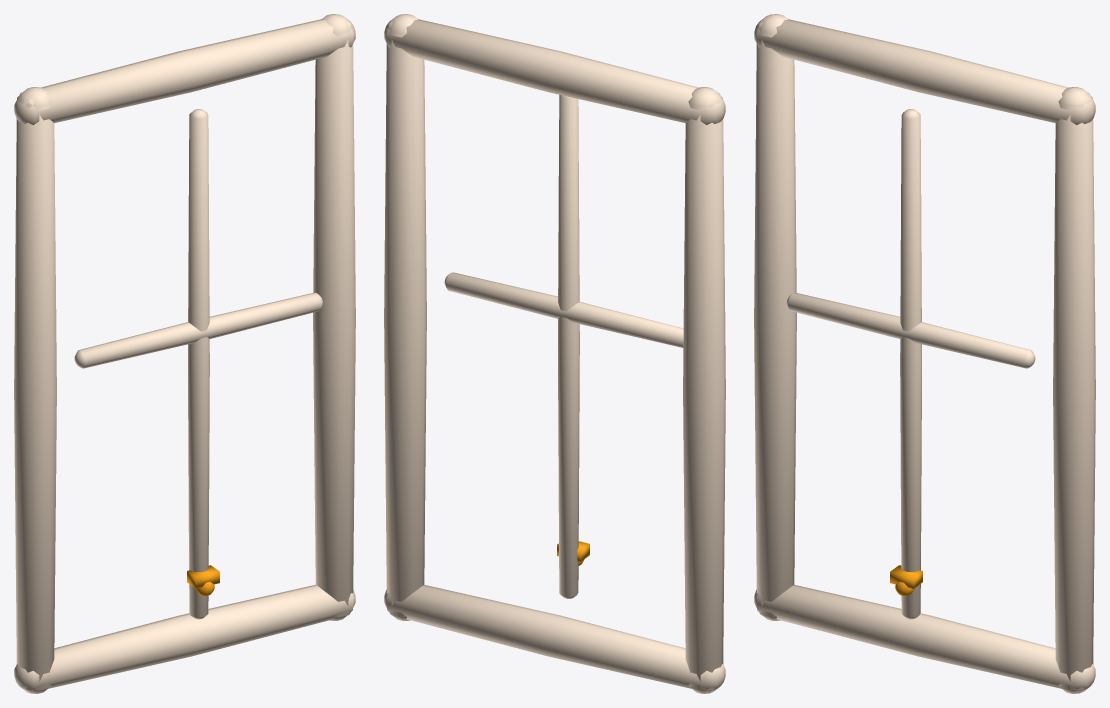
File: fenster_rahmen_1.glb
3 renders of one model, left to right at view 1: azimuth 30°, elevation 25°; view 2: azimuth 150°, elevation 25°; view 3: azimuth 330°, elevation 25°, orthographic.
Visible parts, largest first — view 1: FensterRahmen1; view 2: FensterRahmen1; view 3: FensterRahmen1.
Boxes of the visible parts, x1,y1,x2,y2 form: FensterRahmen1: (14,14,355,693); FensterRahmen1: (384,14,725,693); FensterRahmen1: (754,14,1095,693).
Bounding box in the file's own units: 0.63 × 1.08 × 0.1135.
Materials: 1 (1 with a texture image).
